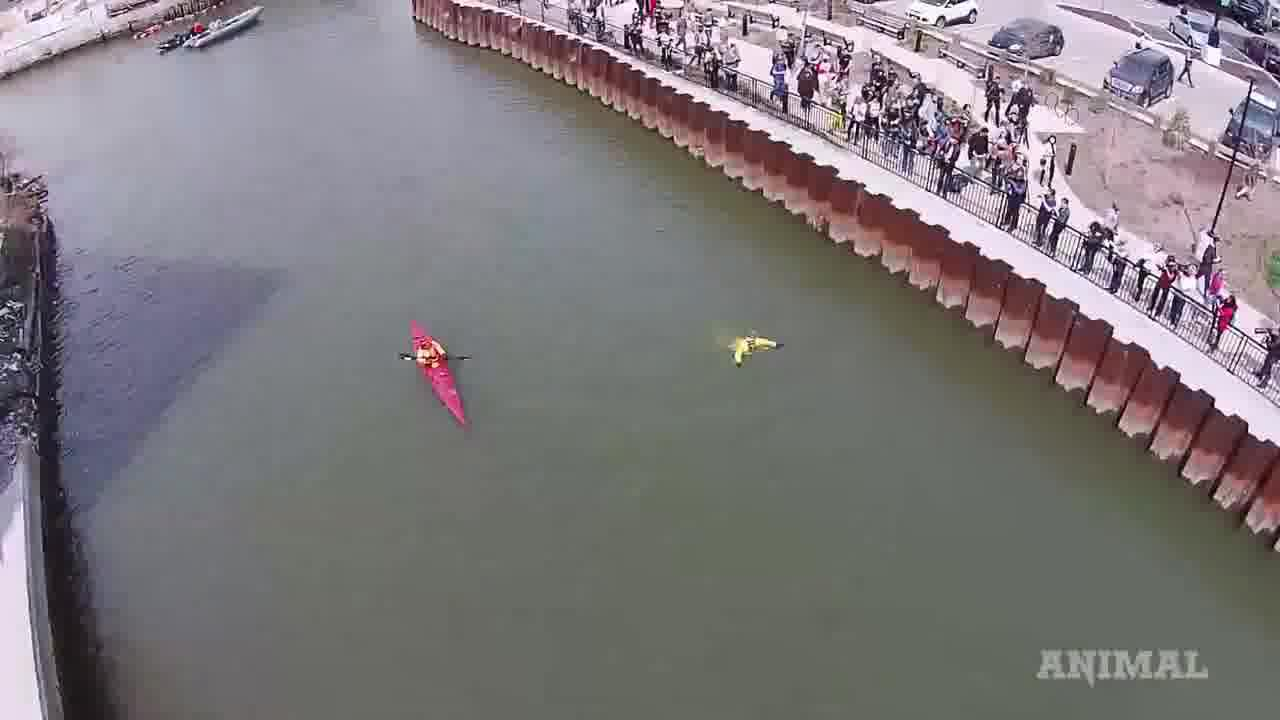swimmer: (712, 303, 788, 375)
